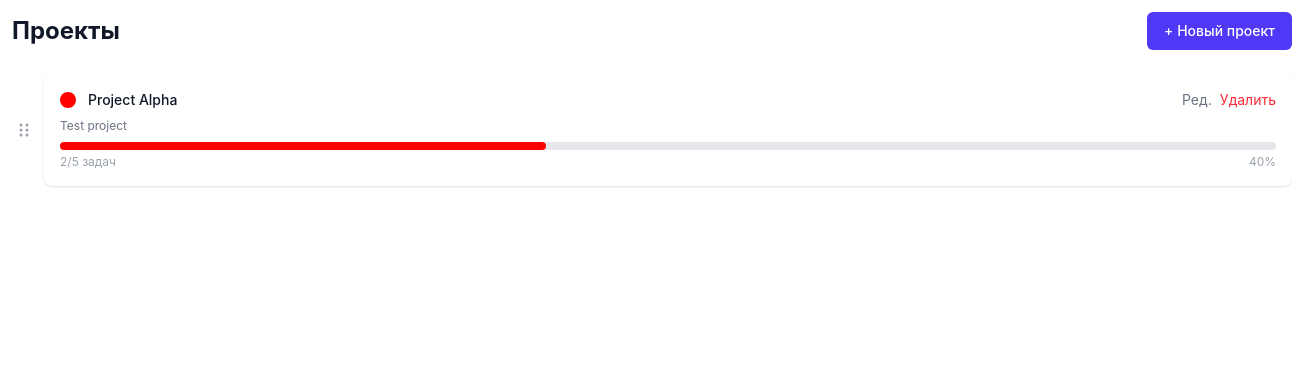
Test: Projects page › project CRUD › opens edit form on edit click
The image size is (1304, 388).
Click the button "Ред.".
click(1197, 100)  # box [1182,90,1212,110]
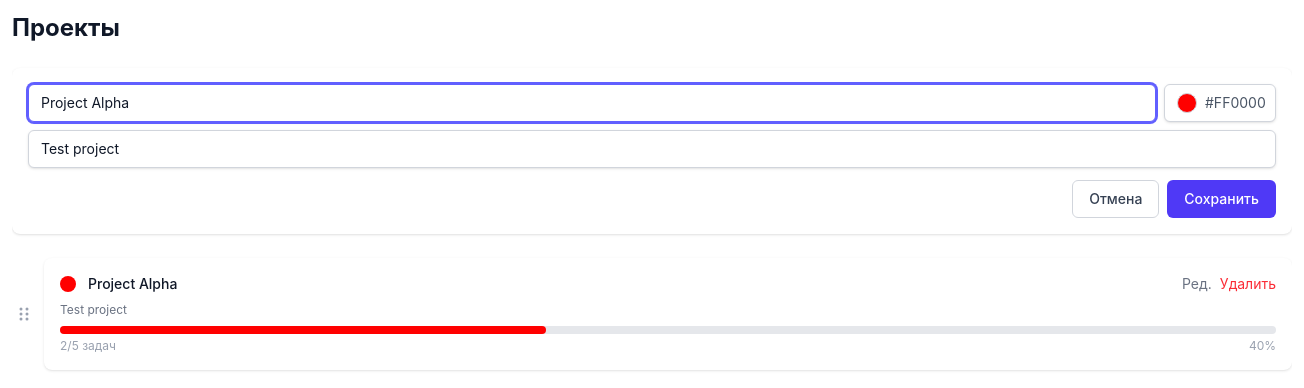
Check: the 1st field showing "Project Alpha" is shown, box [28,84,1156,122]
